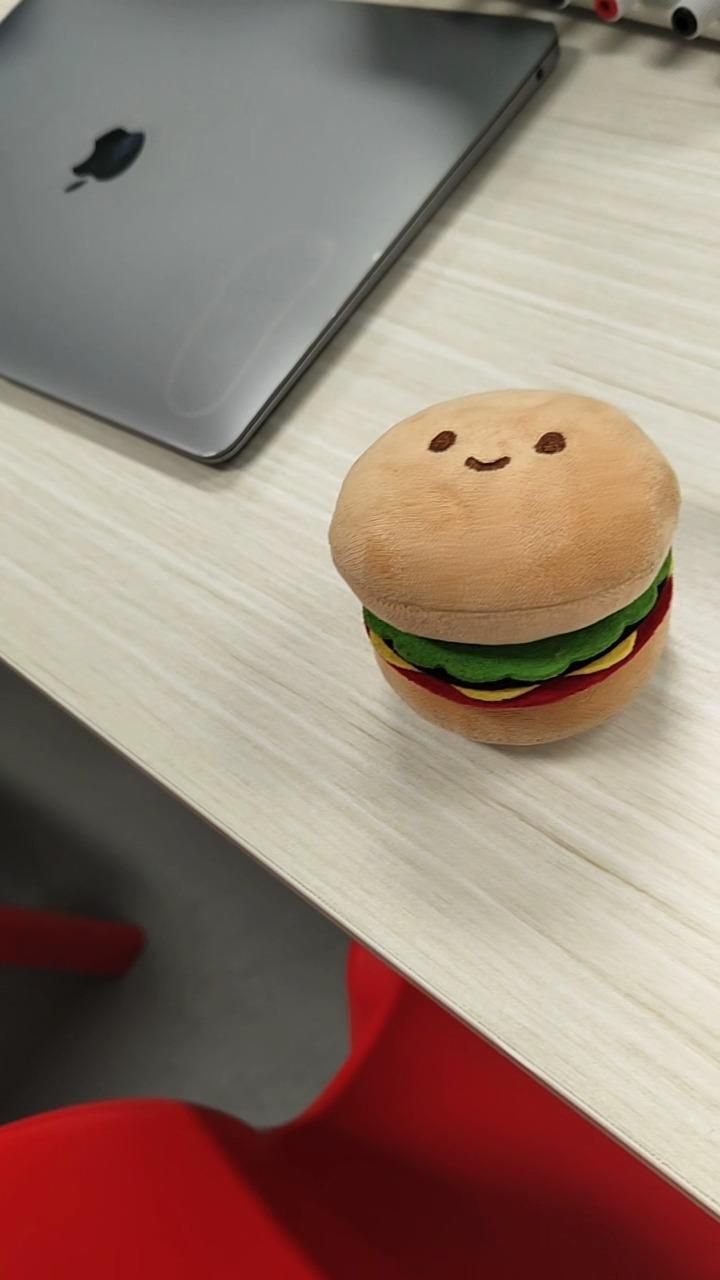hamburger: (326, 386, 681, 749)
